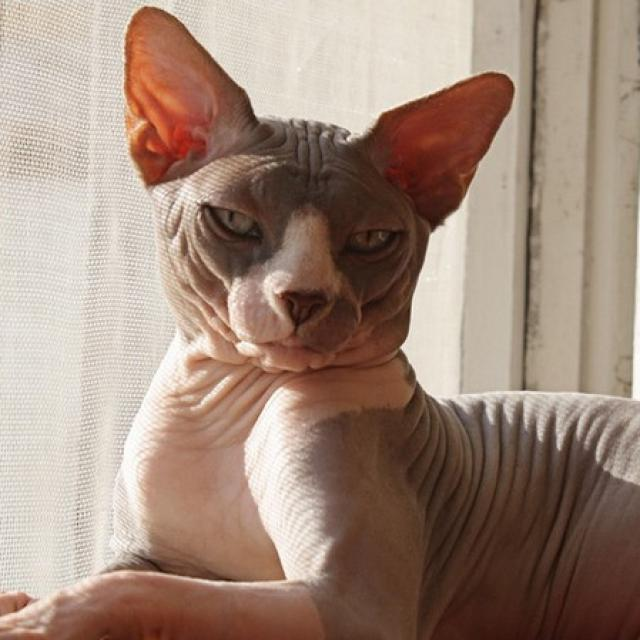Sphynx: (0, 1, 640, 640)
